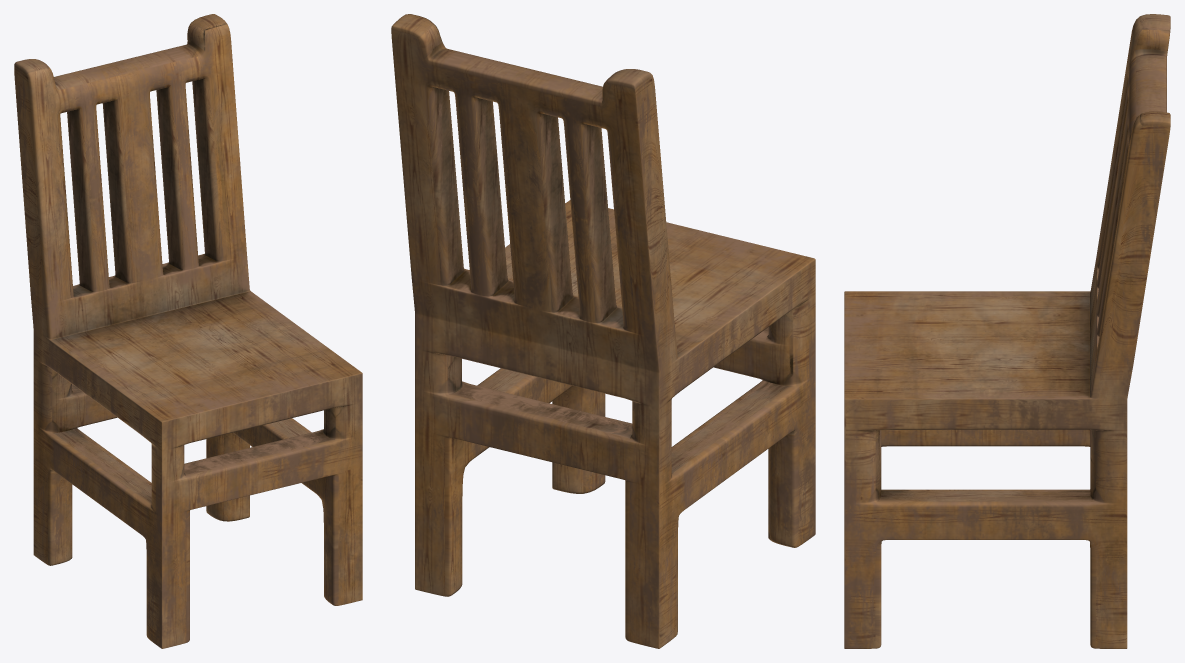
The model's file is Chair_BaseColor.glb.
The picture shows the model from 3 angles, left to right: view 1: azimuth 30°, elevation 25°; view 2: azimuth 150°, elevation 25°; view 3: azimuth 270°, elevation 25°; orthographic projection. The views are drawn at different scales.
Parts seen in each view (by area): view 1: Chair_High_UV; view 2: Chair_High_UV; view 3: Chair_High_UV.
Boxes of the visible parts, box(x1,y1,x2,y2) form: Chair_High_UV: box(14, 14, 362, 648); Chair_High_UV: box(391, 14, 815, 648); Chair_High_UV: box(844, 14, 1170, 648).
Bounding box in the file's own units: 3.51 × 8 × 4.48.
1 material, 1 textured.
